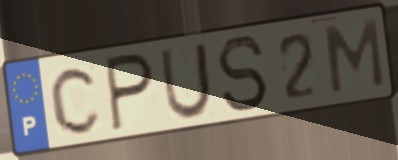2: (277, 31, 319, 103)
C: (47, 63, 104, 137)
M: (321, 16, 387, 97)
P: (103, 50, 157, 135)
S: (213, 34, 271, 115)
U: (157, 40, 214, 122)
